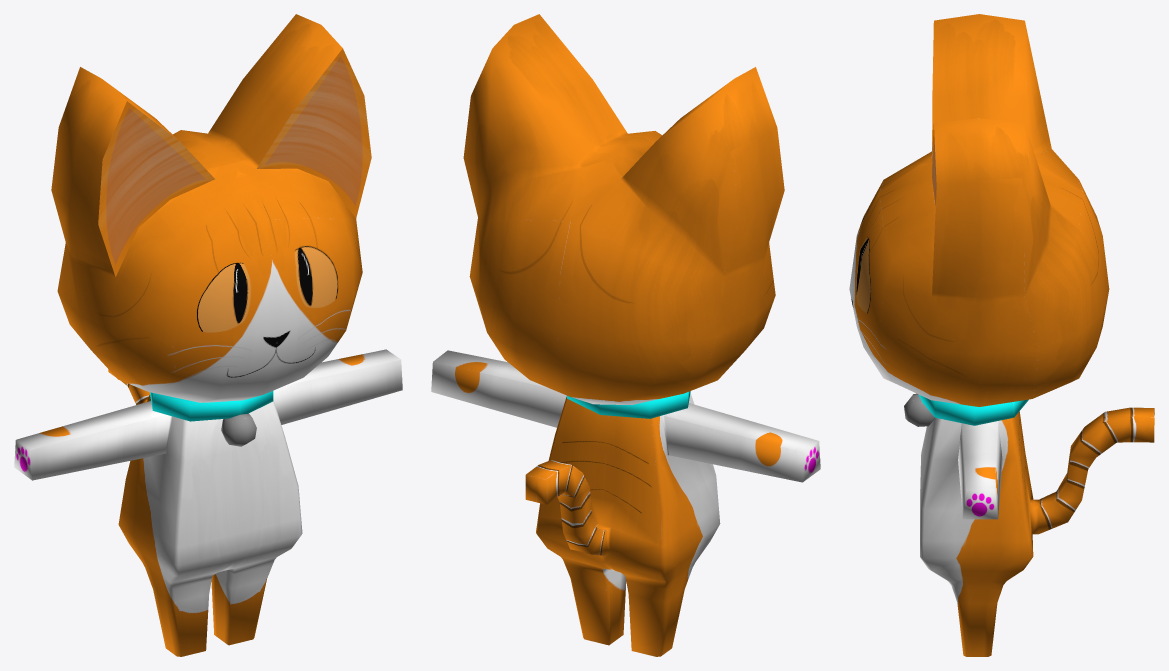
File: Steve.obj
3 views of the same model, side by side, from view 1: azimuth 30°, elevation 25°; view 2: azimuth 150°, elevation 25°; view 3: azimuth 270°, elevation 25° (orthographic). The views are drawn at different scales.
Visible parts, largest first — view 1: Head_Head, Body_Body, Collar_Collar; view 2: Head_Head, Body_Body, Collar_Collar; view 3: Head_Head, Body_Body, Collar_Collar.
Part boxes in pixels (x1,y1,x2,y2): Head_Head: (51, 14, 371, 402); Body_Body: (14, 349, 402, 656); Collar_Collar: (150, 391, 273, 446); Head_Head: (463, 14, 784, 404); Body_Body: (431, 350, 820, 656); Collar_Collar: (567, 391, 690, 418); Head_Head: (849, 14, 1109, 406); Body_Body: (920, 407, 1154, 656); Collar_Collar: (904, 393, 1028, 426).
Bounding box in the file's own units: 1.99 × 3.03 × 1.46.
Materials: 3 (3 with a texture image).
